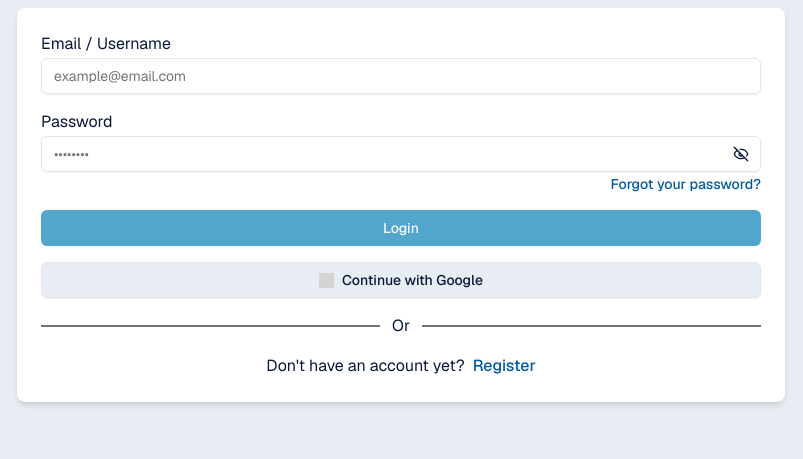
it: LoginForm › displays error from login API
This screenshot has width=803, height=459.
input incorrect data and submit
Step 1. Type "wrong" into the field with placeholder "example@email.com" → (401, 76), box [41,58,761,94]
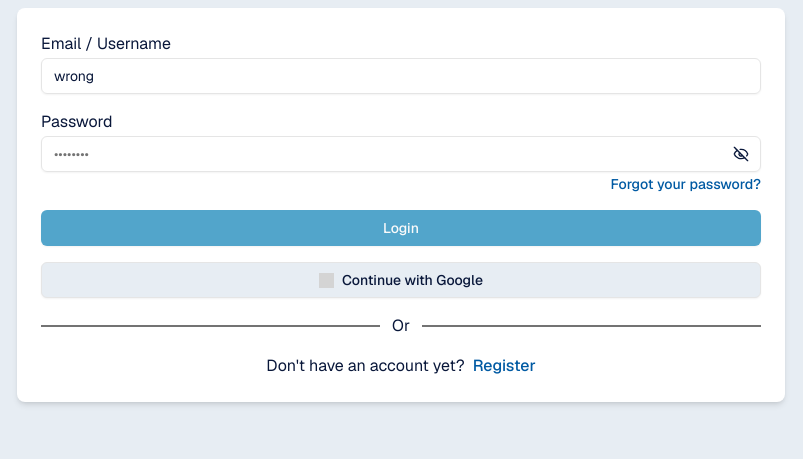
Step 2. Type "wrongpass" into the password field with placeholder "••••••••" → (401, 154), box [41,136,761,172]
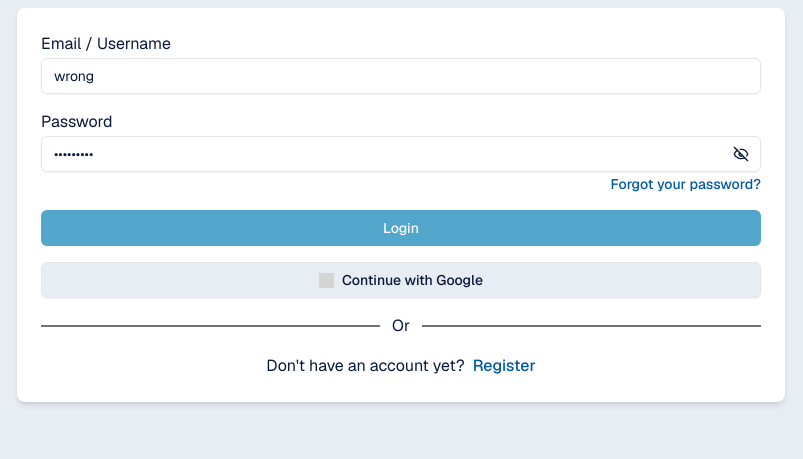
Step 3. Click the button "Login" → (401, 228), box [41,210,761,246]
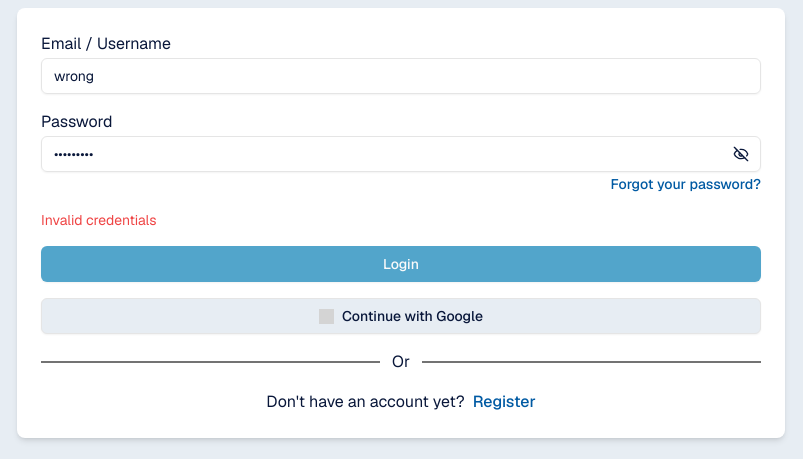
Expected: the text "Invalid credentials" is shown, [41,211,156,229]
